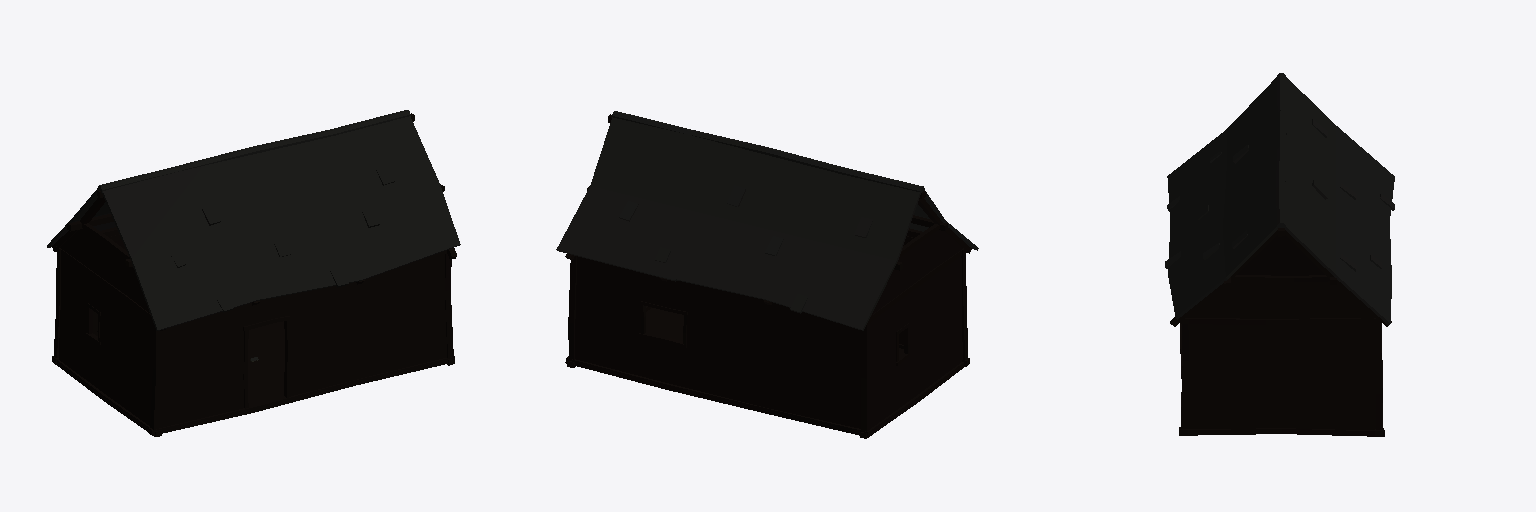
File: MedievalShackWood.obj
3 renders of one model, left to right at view 1: azimuth 30°, elevation 25°; view 2: azimuth 150°, elevation 25°; view 3: azimuth 270°, elevation 25°, orthographic.
Visible parts, largest first — view 1: Hut01_Cube; view 2: Hut01_Cube; view 3: Hut01_Cube.
Boxes of the visible parts, x1=… form: Hut01_Cube: x1=47, y1=110, x2=460, y2=436; Hut01_Cube: x1=556, y1=111, x2=978, y2=438; Hut01_Cube: x1=1165, y1=73, x2=1394, y2=436.
Bounding box in the file's own units: 496 × 321 × 308.